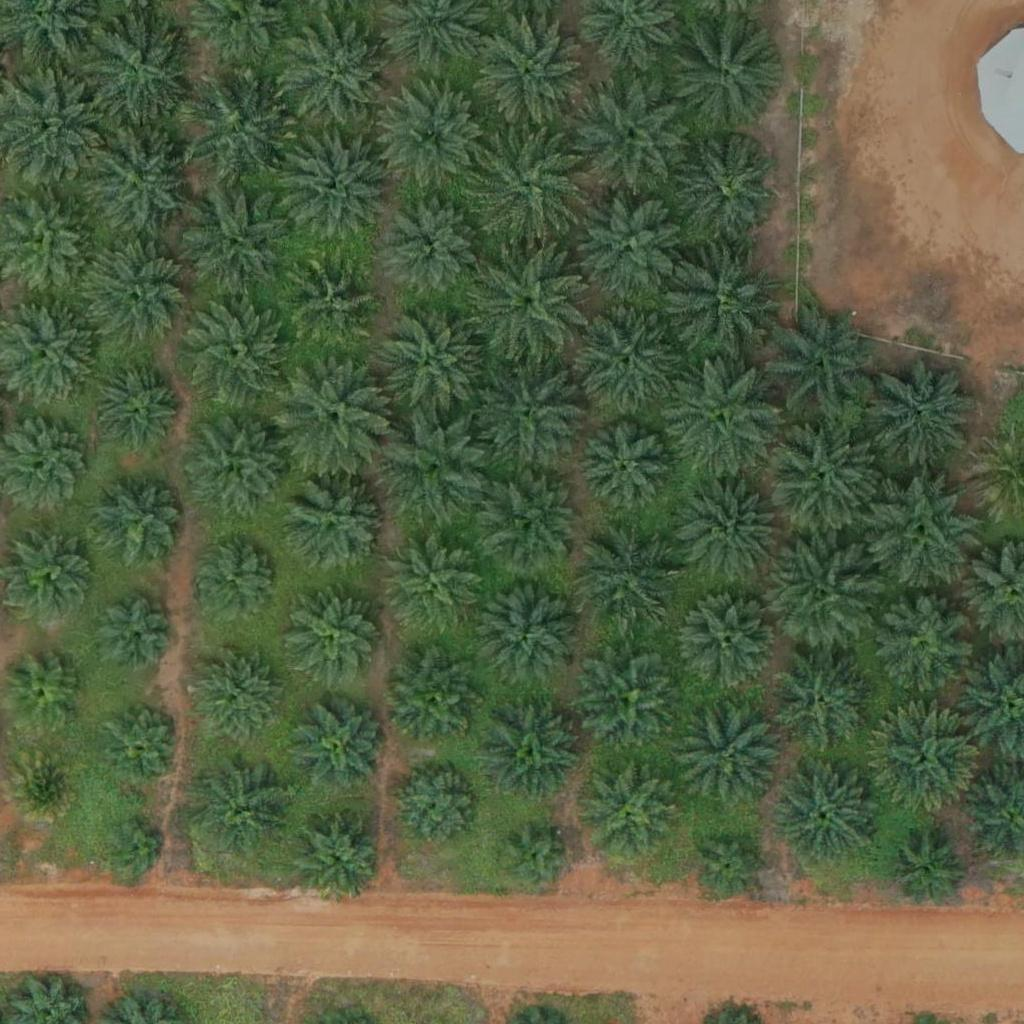Kelapa_Sawit: (869, 358, 982, 472), (867, 474, 980, 588), (767, 309, 880, 423), (284, 22, 397, 135), (377, 81, 490, 194), (668, 21, 781, 134), (472, 248, 585, 361), (471, 353, 584, 466), (374, 302, 487, 415), (83, 125, 196, 238), (473, 19, 585, 133), (576, 80, 688, 194), (767, 415, 879, 529), (670, 248, 782, 362), (869, 708, 981, 821), (79, 11, 191, 124), (180, 71, 292, 184), (468, 128, 580, 241), (764, 540, 876, 653), (667, 362, 779, 475), (571, 307, 683, 420), (380, 409, 492, 522), (278, 358, 390, 471), (177, 297, 289, 410), (573, 192, 685, 305), (277, 125, 389, 238), (181, 184, 293, 297), (772, 656, 872, 757), (776, 763, 876, 864), (678, 479, 778, 580), (679, 592, 779, 693), (679, 701, 779, 802), (578, 524, 678, 625), (580, 650, 680, 751), (580, 762, 680, 863), (486, 474, 586, 575), (480, 582, 580, 683), (481, 704, 581, 805), (387, 531, 487, 632), (386, 648, 486, 749), (285, 473, 385, 574), (284, 589, 384, 690), (188, 417, 288, 518), (85, 239, 185, 340), (678, 140, 778, 240), (873, 596, 973, 696), (287, 806, 387, 906), (193, 756, 293, 856), (288, 259, 376, 348), (392, 762, 480, 850), (6, 533, 94, 621), (580, 426, 667, 514), (297, 702, 384, 790), (191, 533, 278, 621), (193, 645, 280, 733), (90, 363, 177, 451), (96, 482, 183, 570), (389, 202, 476, 290), (6, 658, 81, 734), (96, 597, 171, 673), (498, 821, 573, 897), (103, 706, 178, 782), (7, 747, 82, 823), (890, 835, 965, 910), (694, 829, 769, 904), (105, 819, 167, 882)
